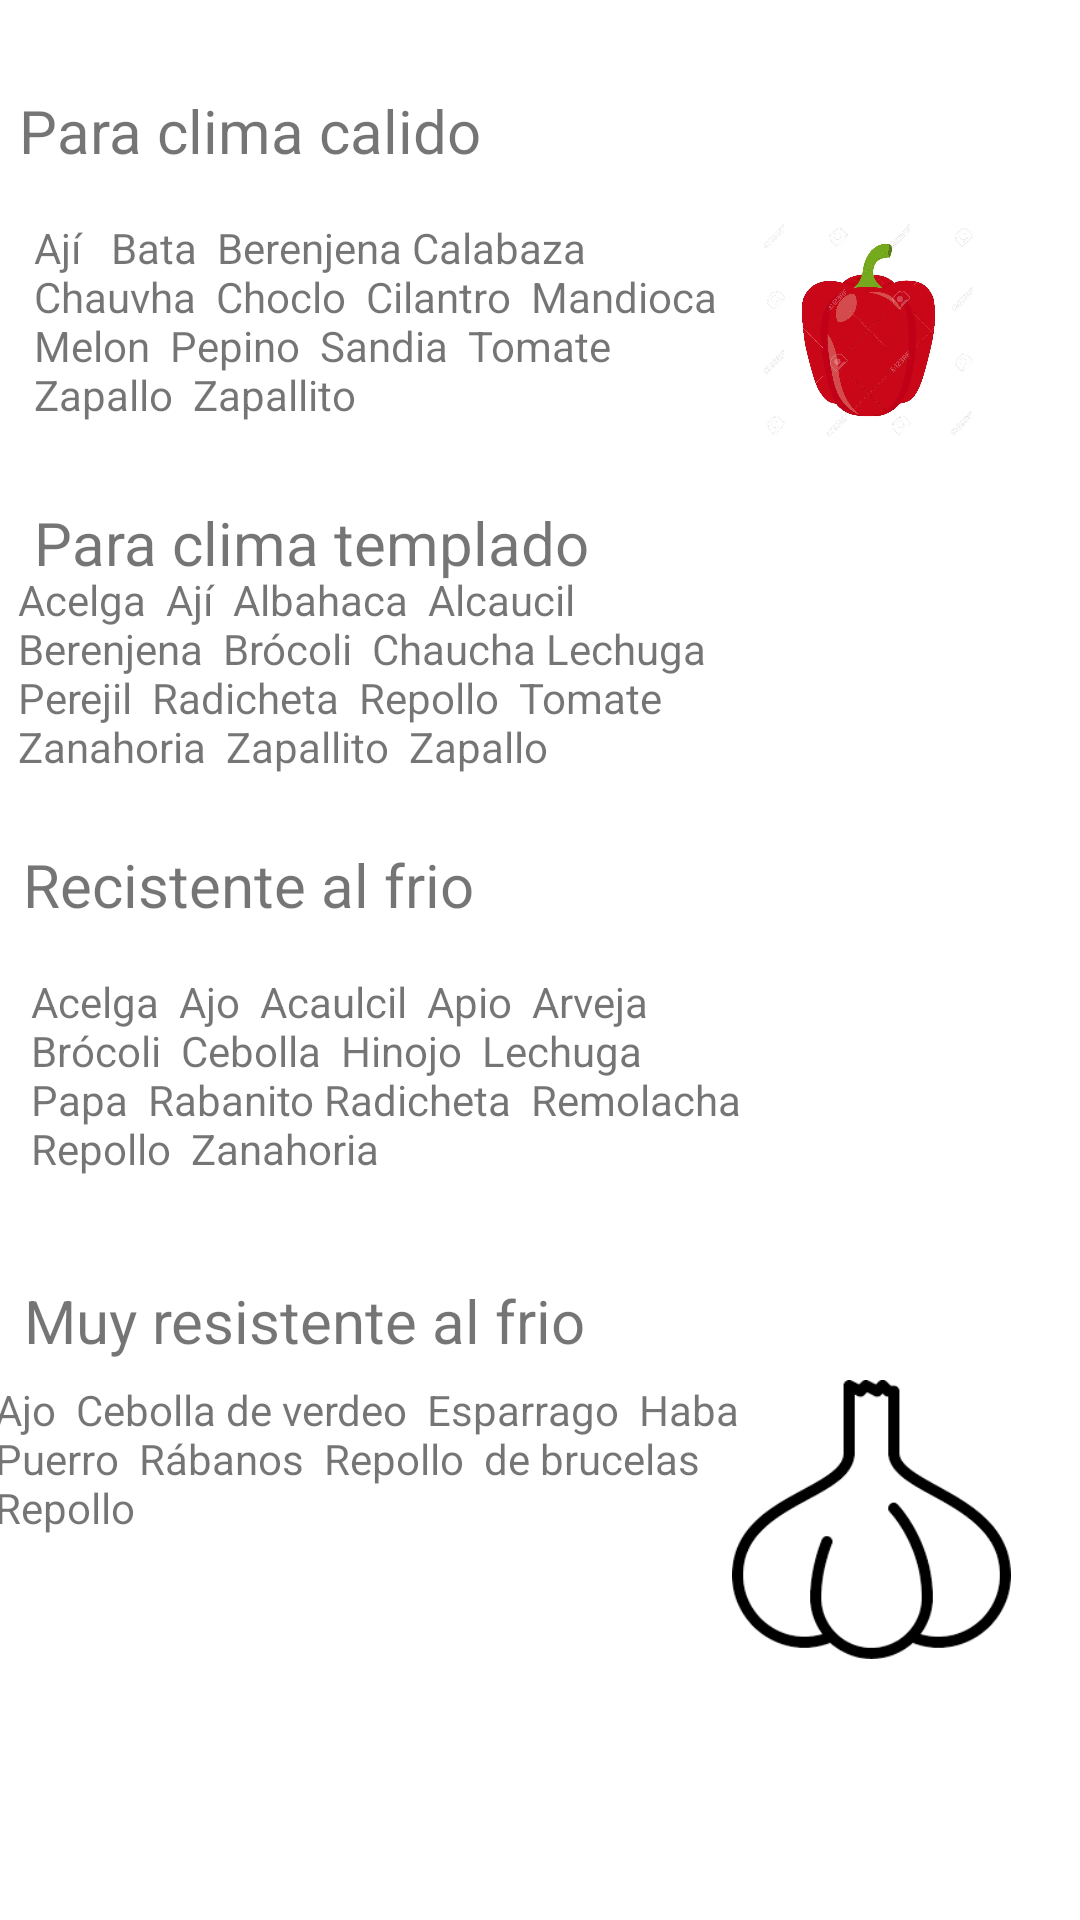

Point at icon controls on the screen. Image size 1080x1920, points as point (x, y).
pimiento: point (869, 328)
